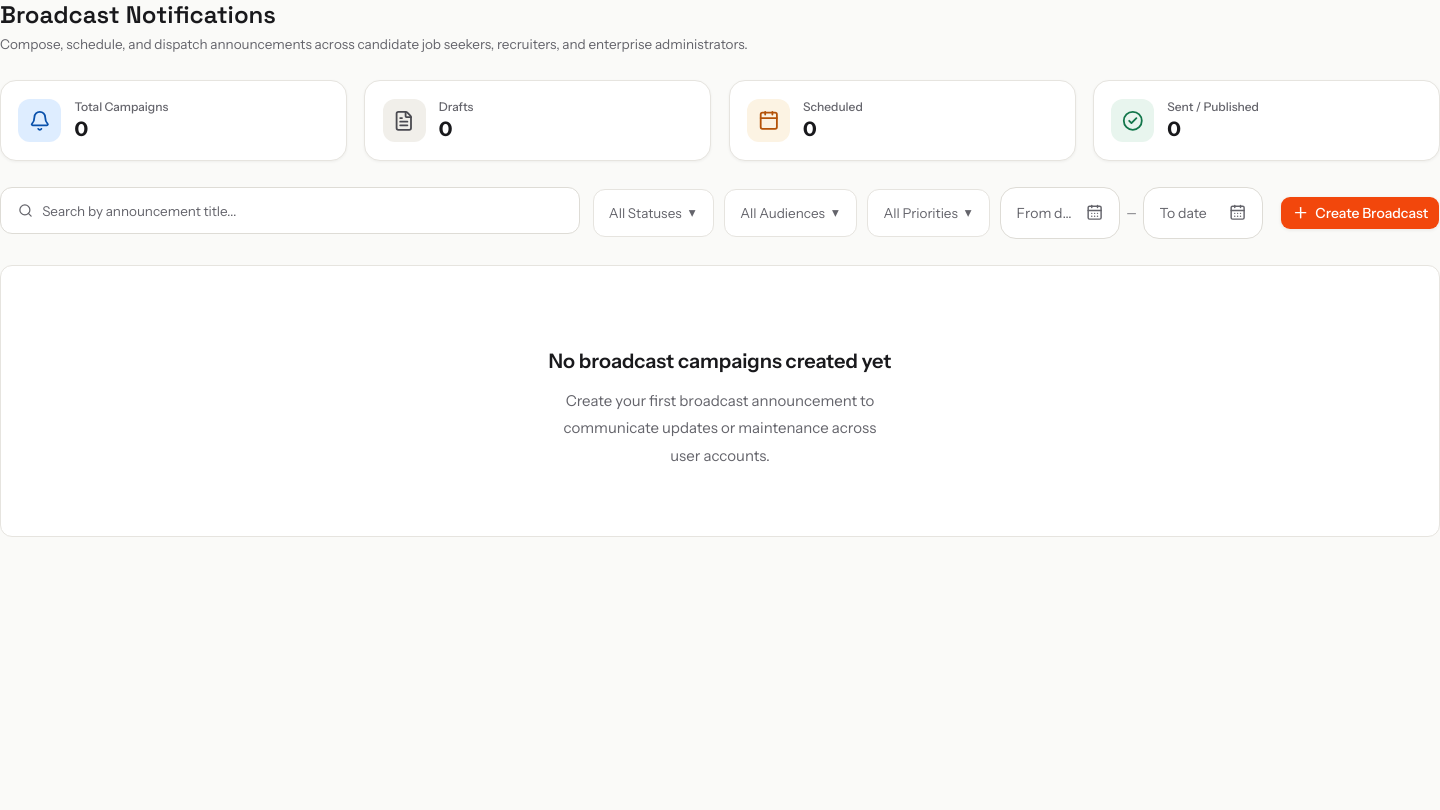
Test: Broadcast Notifications Feature Tests (UC 01 - UC 07) › prompts confirmation modal before immediately publishing broadcast
# Open create dialog
Click the button "Create Broadcast" at (1360, 213), box [1280,196,1439,230]
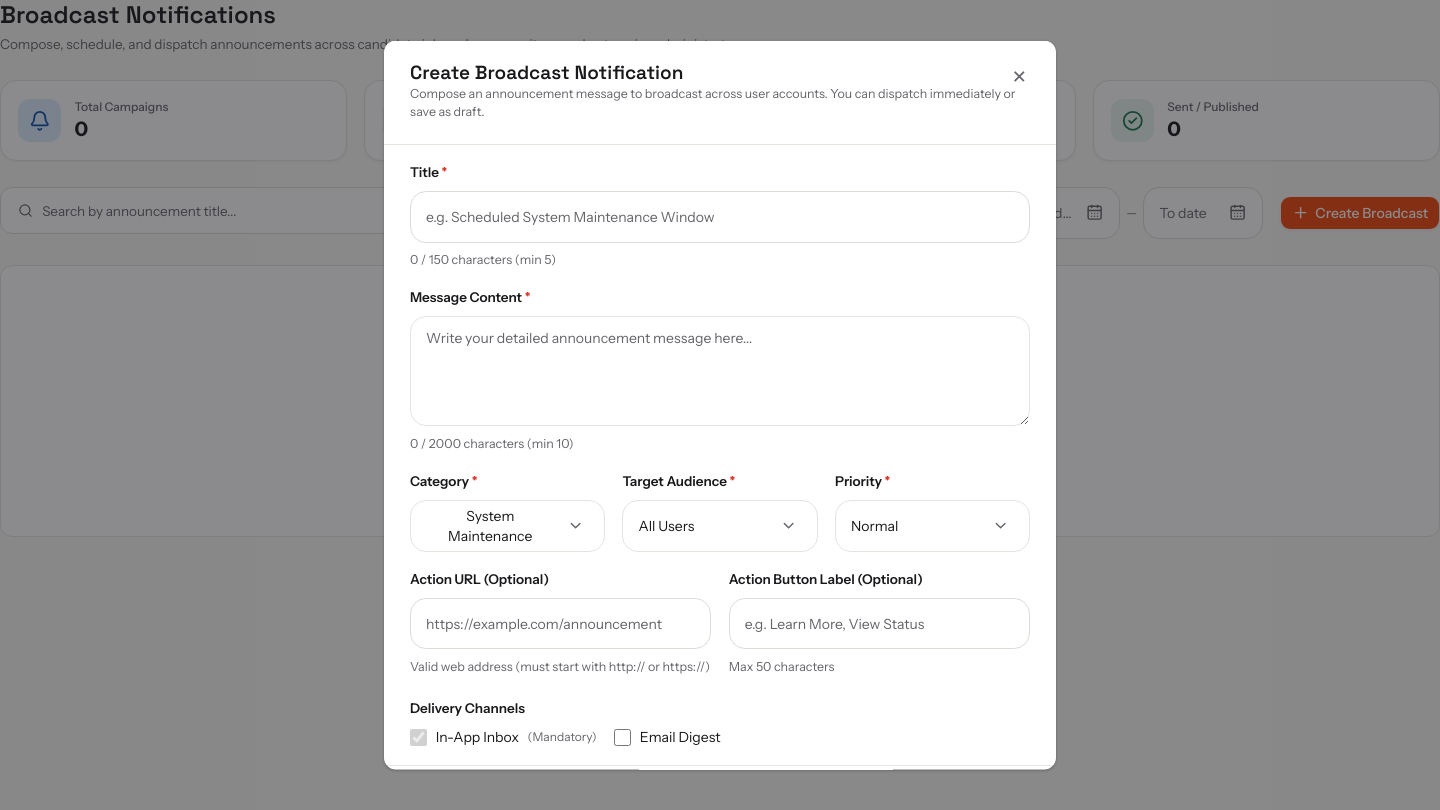
# Fill valid form inputs
Type "Valid Test Title" into the field labelled "Title *" at (720, 216), box [410,190,1030,242]
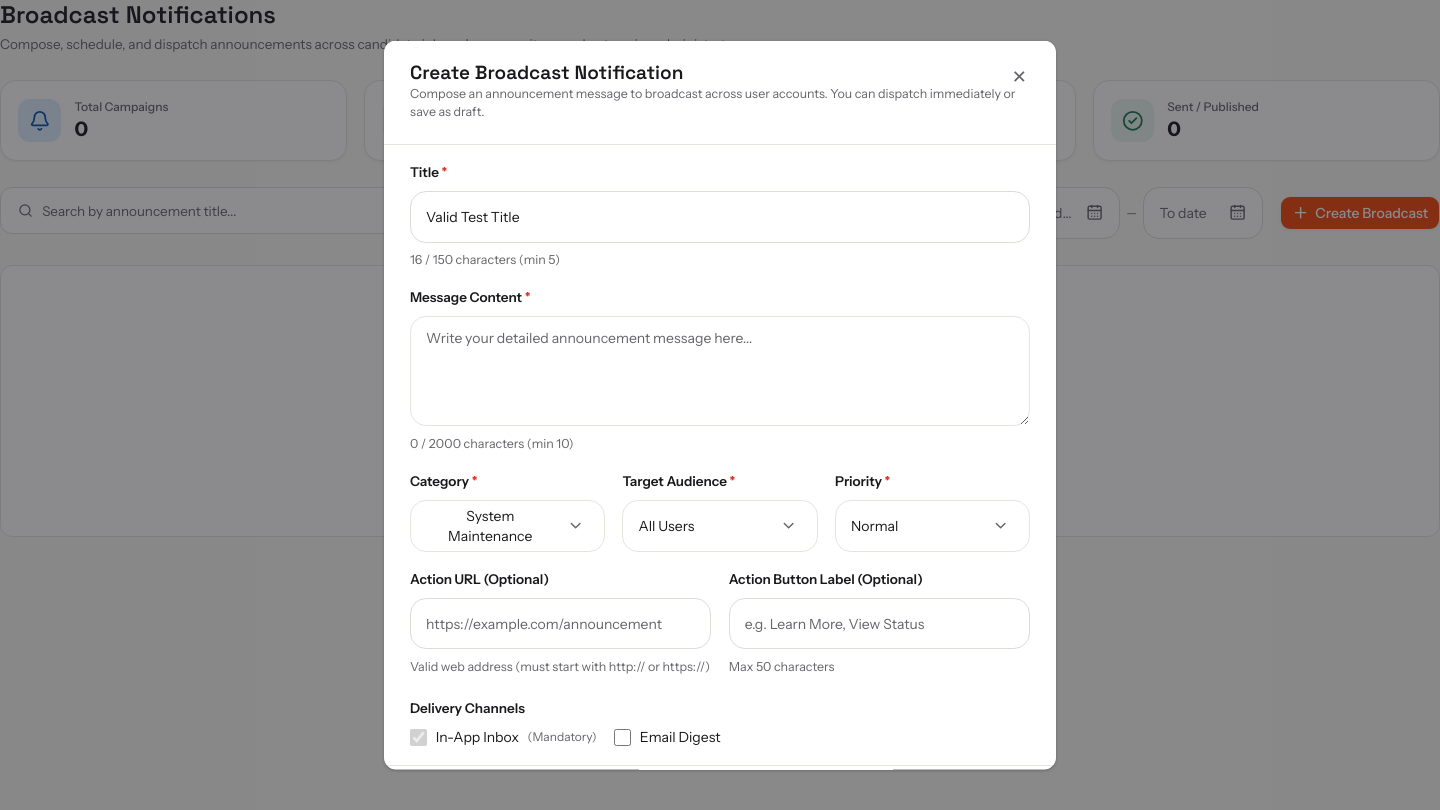
Type "Valid announcement content exceeding ten chars" into the text box labelled "Message Content *" at (720, 371), box [410,316,1030,426]
(page scrolled)
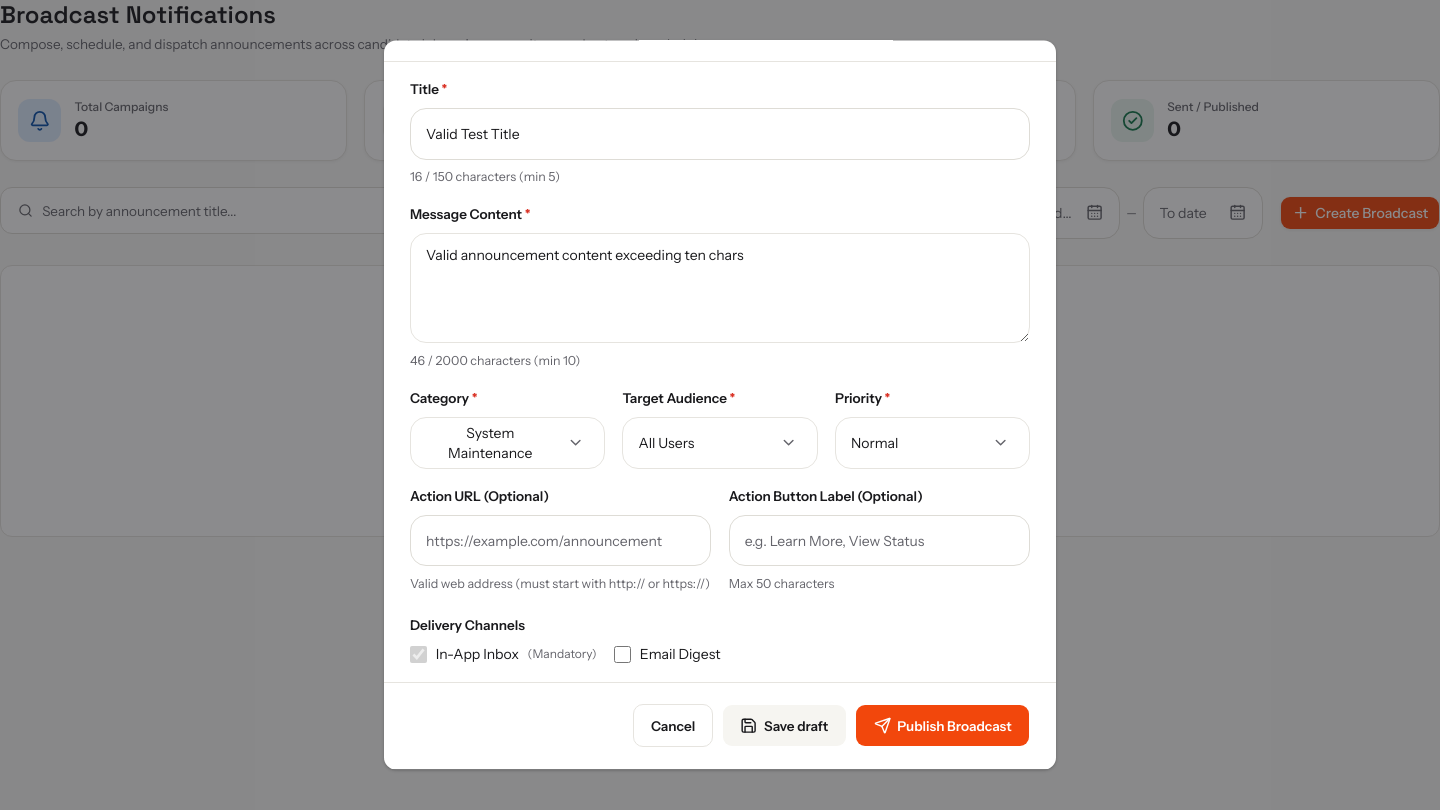
# Submit via Publish Broadcast button
Click the button "Publish Broadcast" at (943, 726), box [855,705,1030,748]
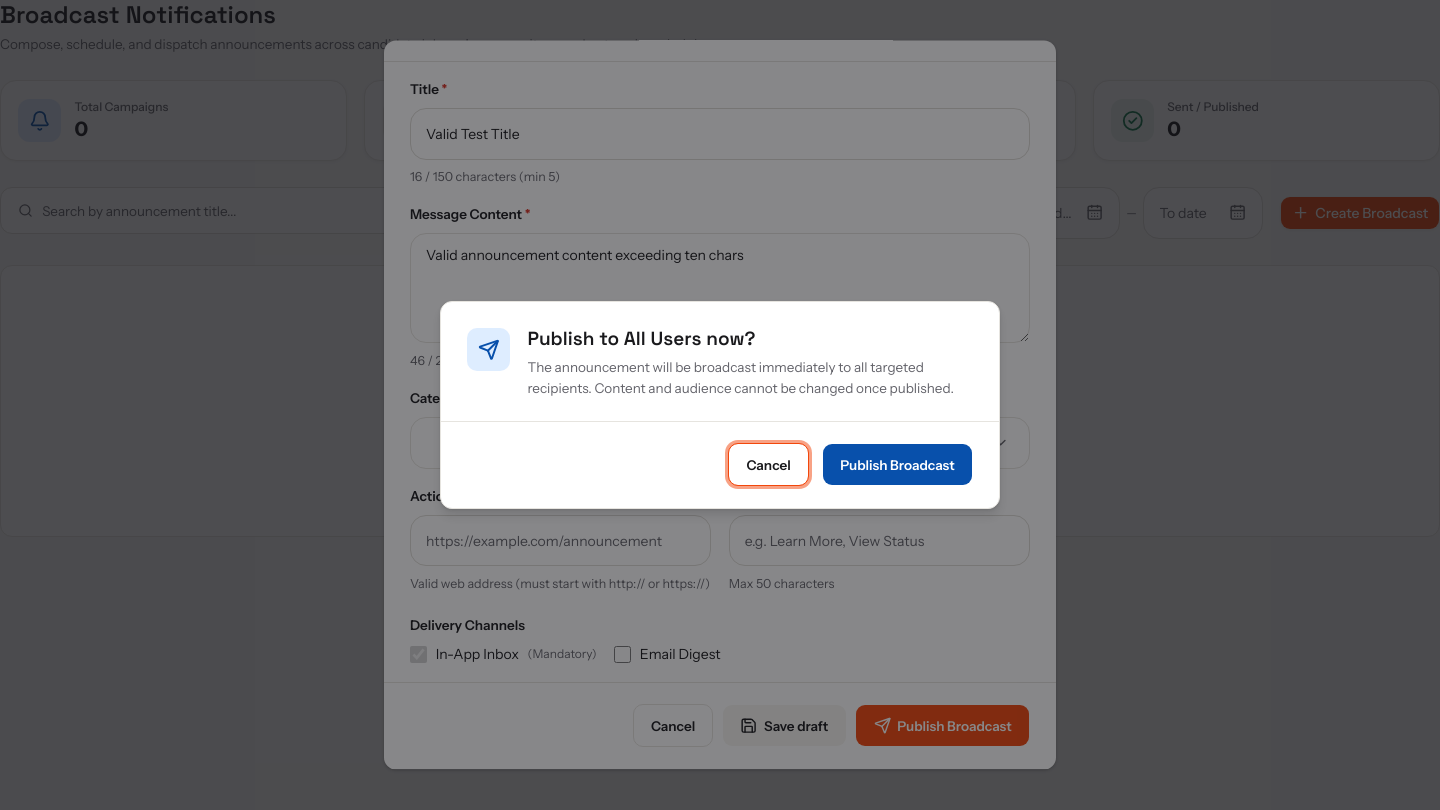
Check: the heading "Publish to All Users now?" is shown, box [528,326,756,351]
Check: the text "The announcement will be broadcast immediately" is shown, box [528,359,954,396]
